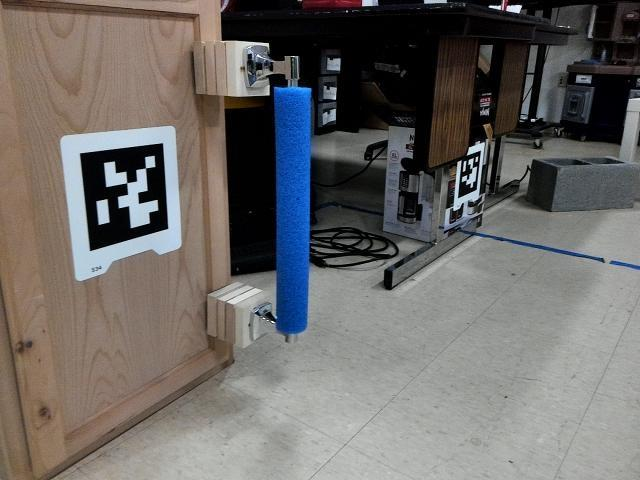noodle_handle: (263, 65, 317, 340)
